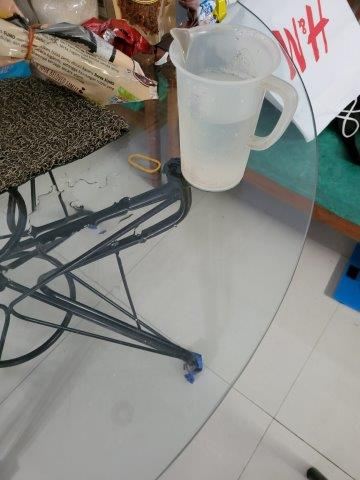karet: (129, 154, 160, 173)
